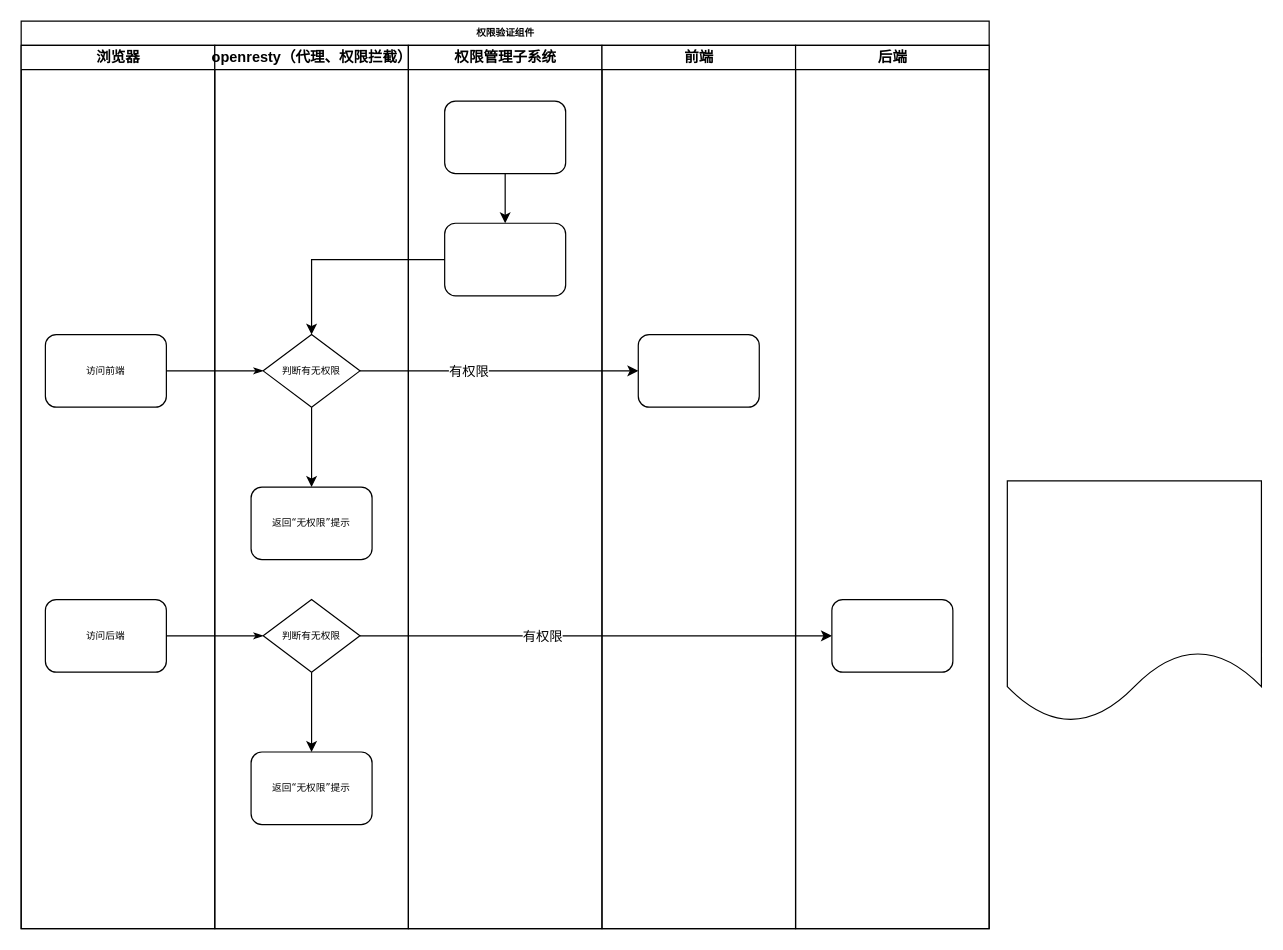
Some shapes in this 1283 by 950 pixel diagram are drawn without their labels. Here are the shapes that lost their labels. From the top down, the centre of each, then its label:
At [504,137]: "维护用户和权限信息".
At [504,259]: "权限信息放入redis".
At [698,370]: "返回前端页面内容".
At [1133,601]: "1、权限验证解耦，再增加子系统，可以按统一的方式来进行控制，与子系统采用的技术路线关联较小 2、比较简单的控制前后端权限，网上查到的多是控制后端接口权限".
At [892,635]: "返回后端接口数据".
